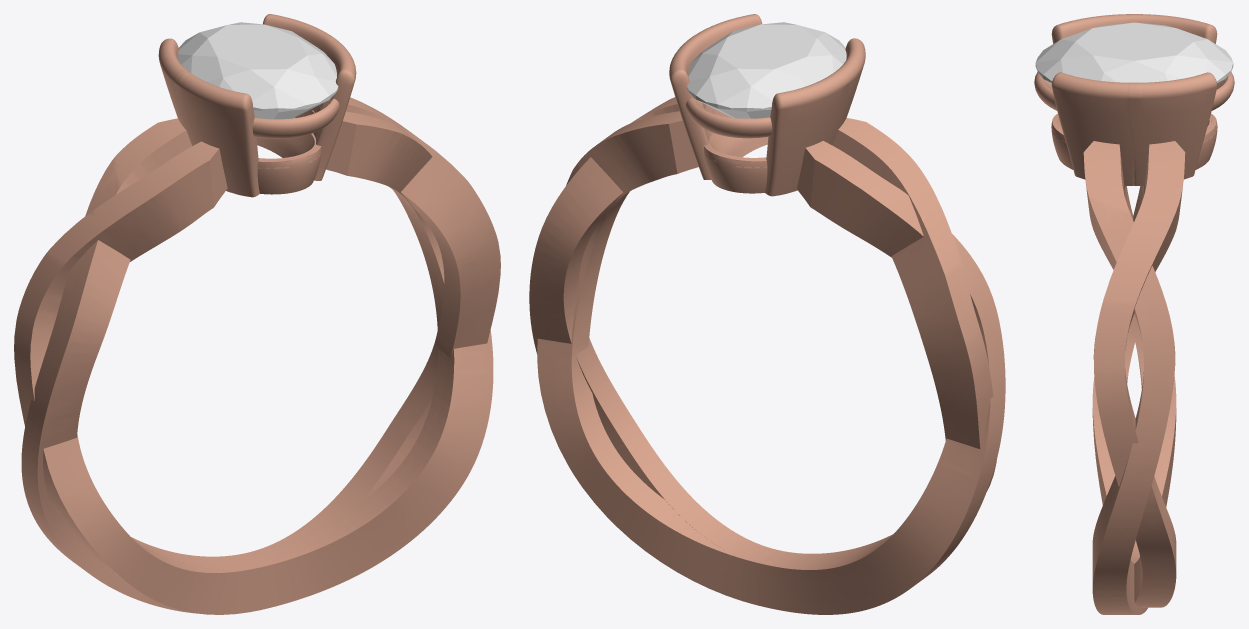
Rendered from diamond-oval-rosegold-halfmoonbezel-twist-nosidestones.glb.
3 renders of one model, left to right at view 1: azimuth 30°, elevation 25°; view 2: azimuth 150°, elevation 25°; view 3: azimuth 270°, elevation 25°, orthographic.
Visible parts, largest first — view 1: metal.003, stone; view 2: metal.003, stone; view 3: metal.003, stone.
Part boxes in pixels (bbox=[...]): metal.003: bbox=[14, 14, 500, 614]; stone: bbox=[178, 22, 338, 119]; metal.003: bbox=[529, 14, 1005, 614]; stone: bbox=[687, 22, 846, 118]; metal.003: bbox=[1034, 14, 1234, 614]; stone: bbox=[1035, 22, 1233, 83].
Size of the model in its own units: 19.97 by 23.31 by 7.75.
